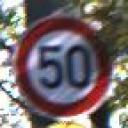speed_limit_50: (11, 12, 117, 118)
